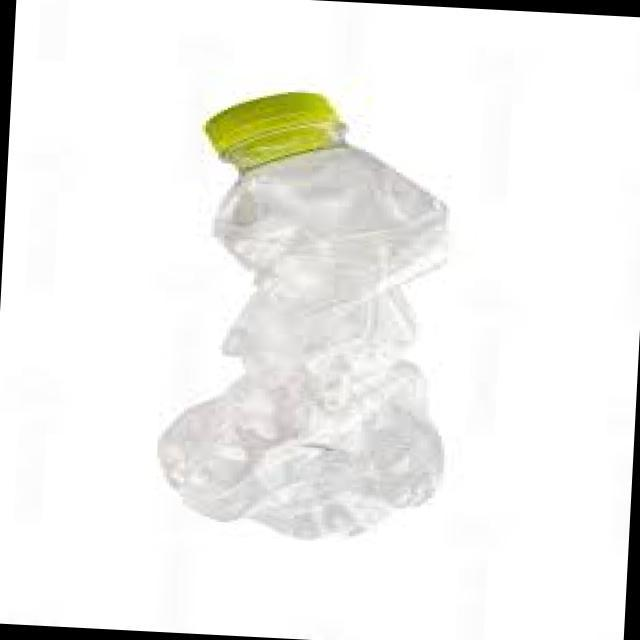defected: (143, 88, 481, 542)
